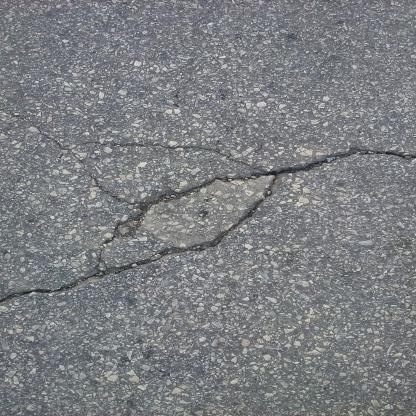Cracks: (2, 139, 415, 305)
